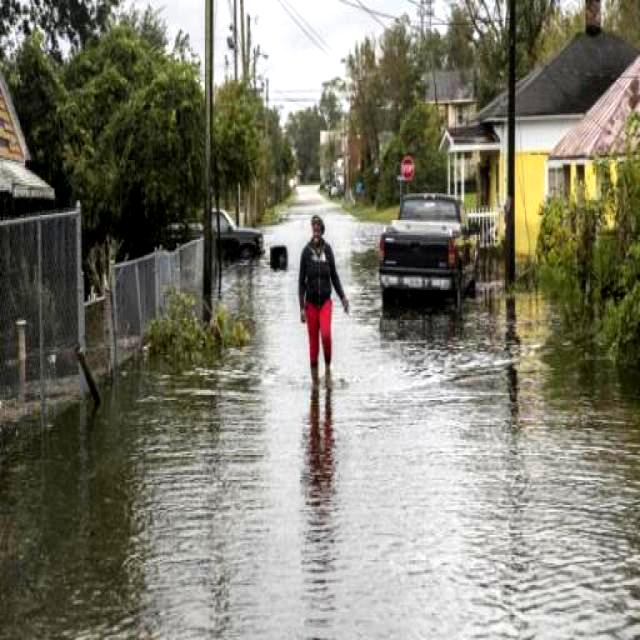civilian: (282, 199, 362, 405)
